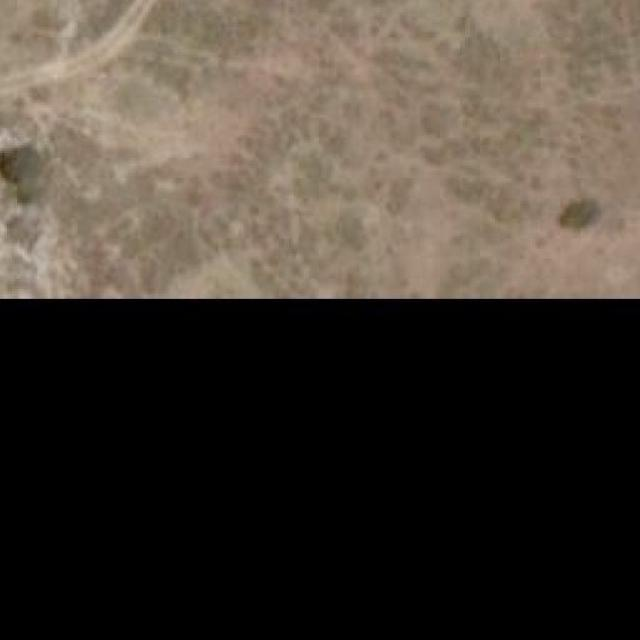Tree: (0, 145, 55, 206), (558, 191, 604, 237)
